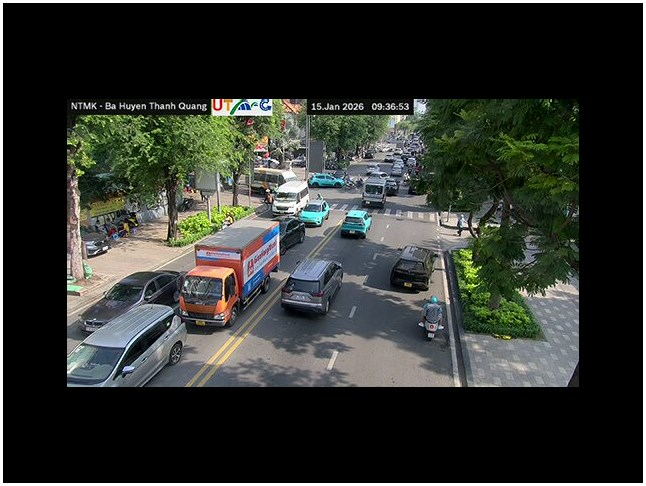car: (67, 300, 188, 384), (280, 257, 344, 316), (389, 244, 439, 291), (340, 209, 372, 239), (81, 230, 109, 257), (308, 172, 345, 189), (83, 236, 108, 257)
truck: (178, 215, 282, 329)
